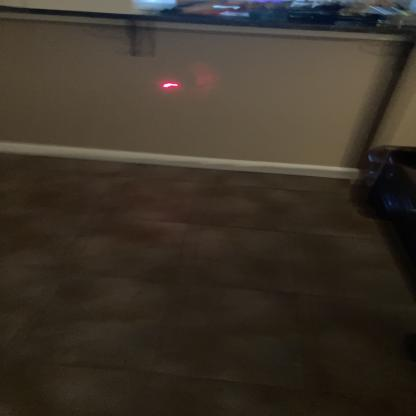target: (158, 80, 180, 88)
